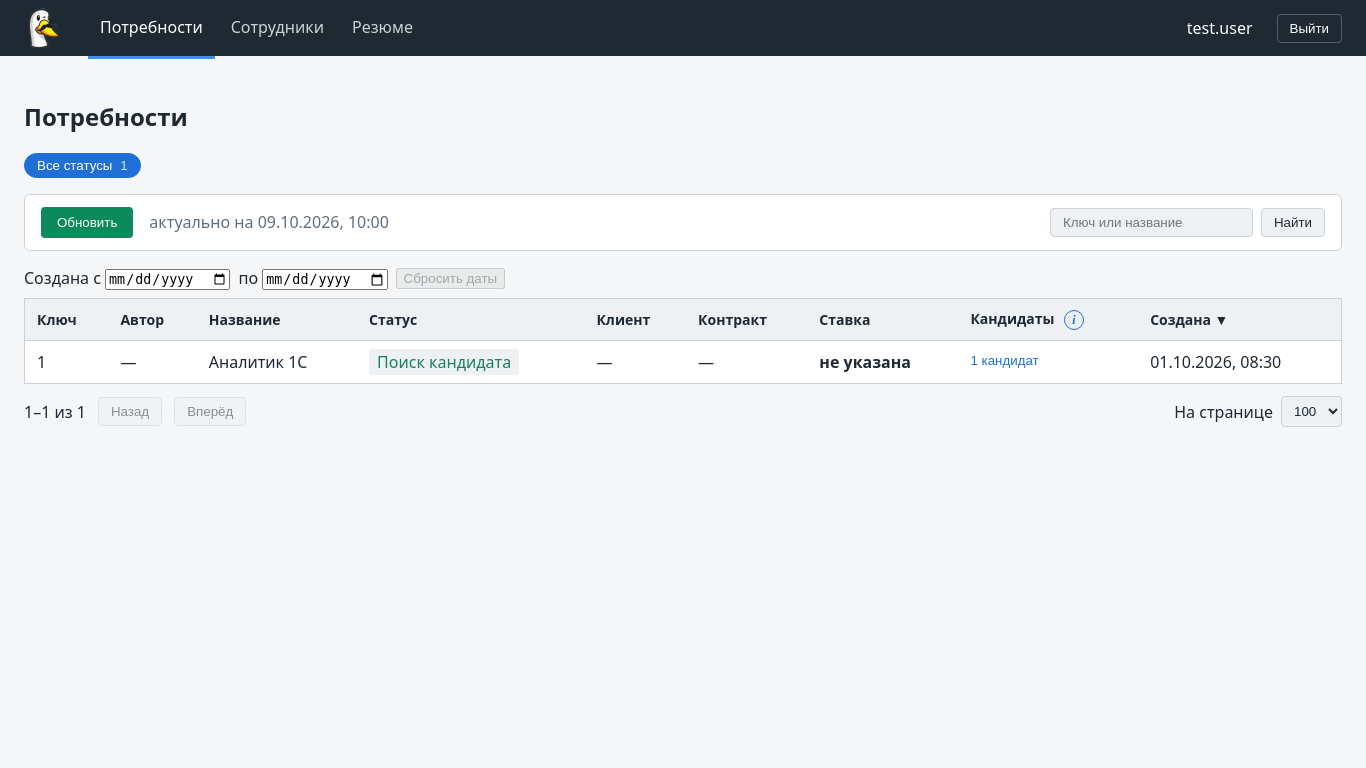
it: Потребности: сопоставление › блок «Чего не хватает до 100%»: список, полное совпадение, подсказка при gaps=null
The width and height of the screenshot is (1366, 768).
Click the button with aria-label "1 кандидат, AN-1". click: (1005, 361)
box: 970,351 -> 1039,370
(page scrolled)
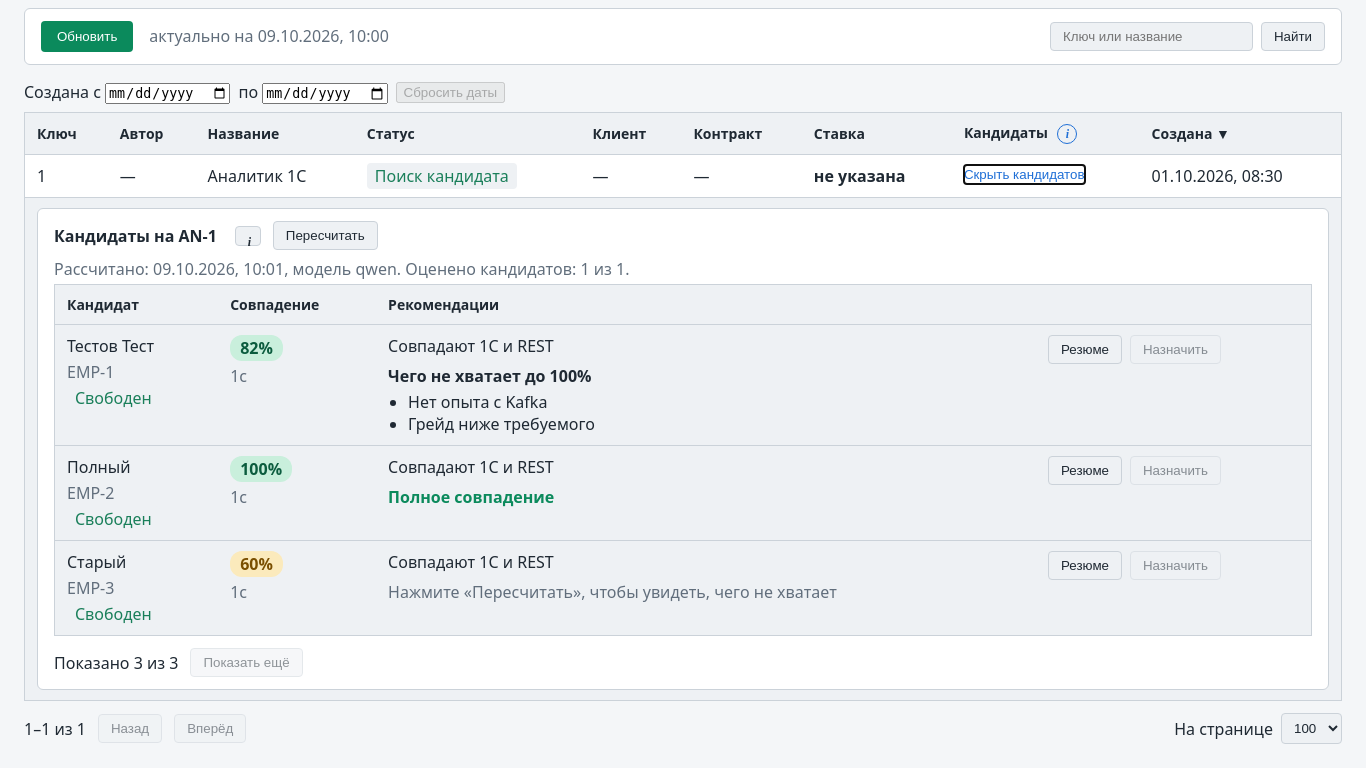
Now the text "Тестов Тест" is shown, box 67,335 -> 154,357
Now the text "Чего не хватает до 100%" is shown, box 388,365 -> 592,387
Now the list item "Нет опыта с Kafka" is shown, box 408,391 -> 547,413
